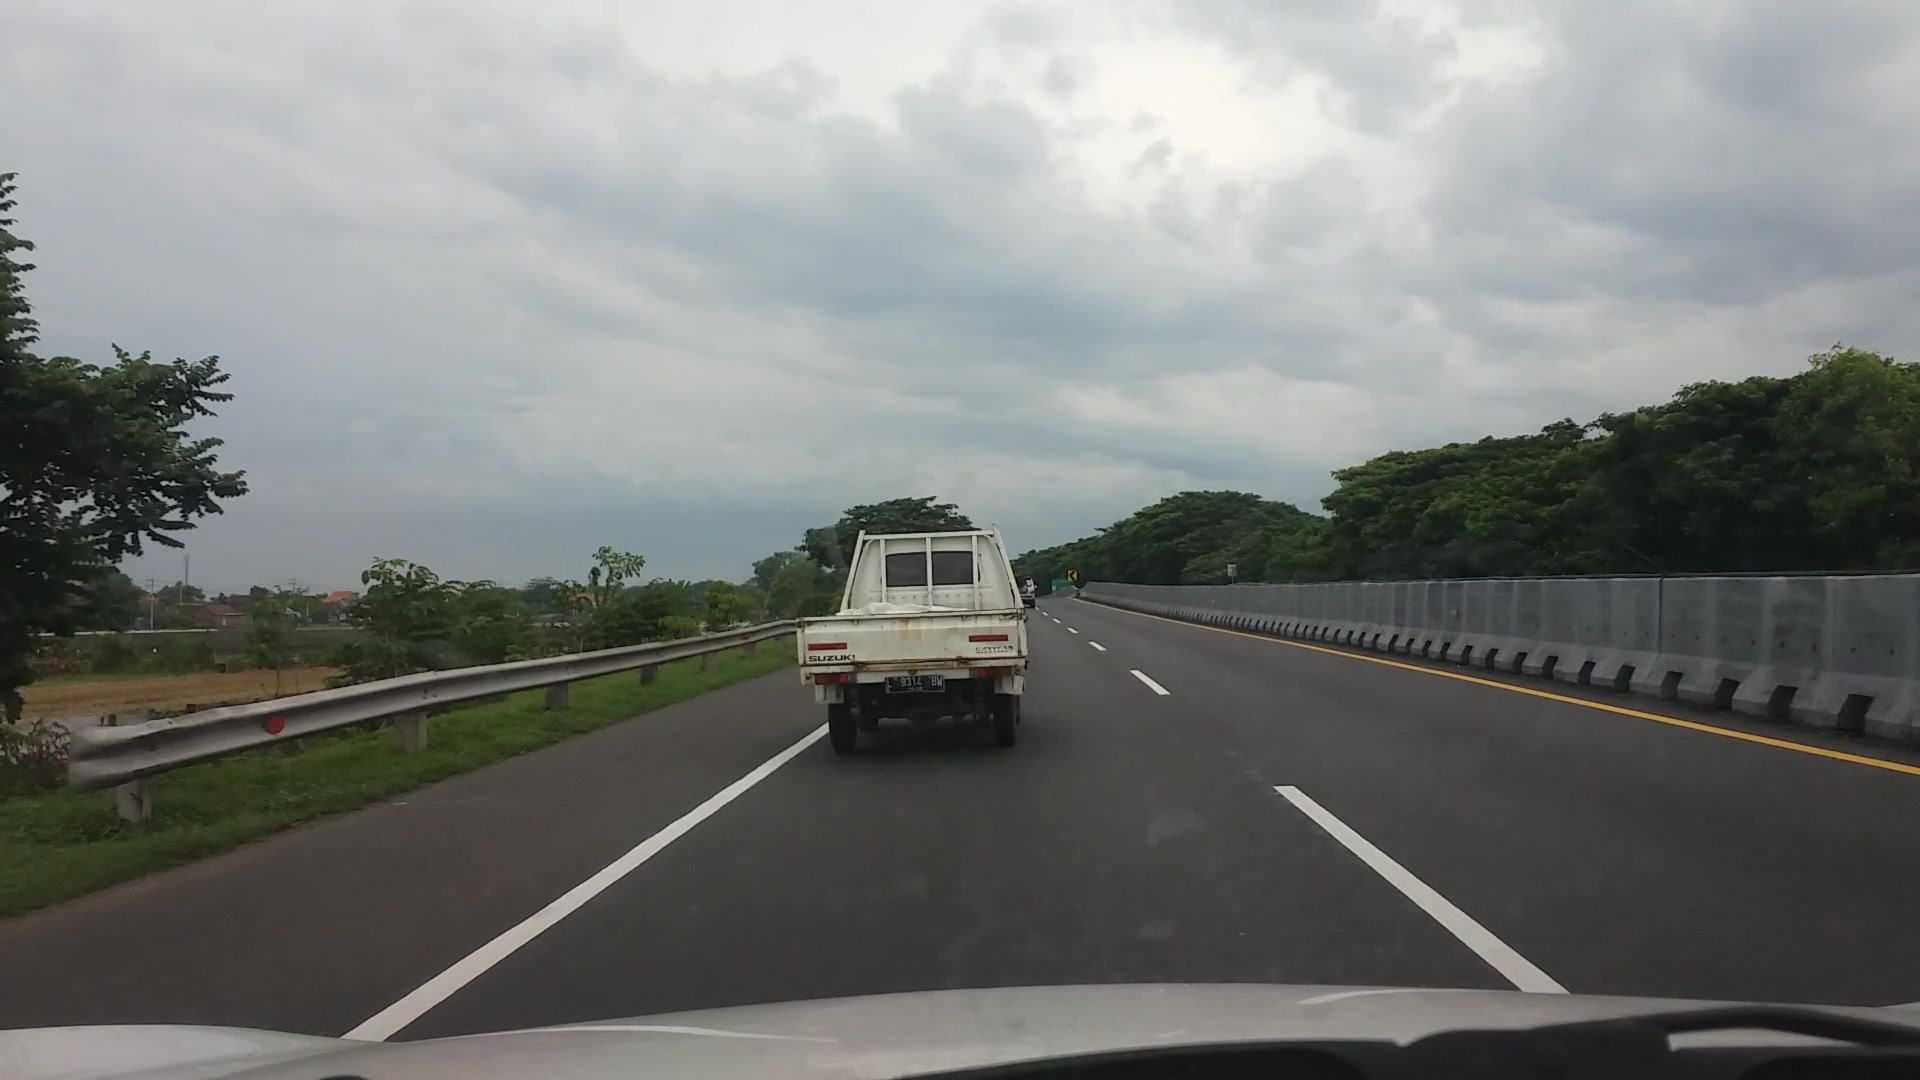plate_positive: (885, 675, 944, 694)
